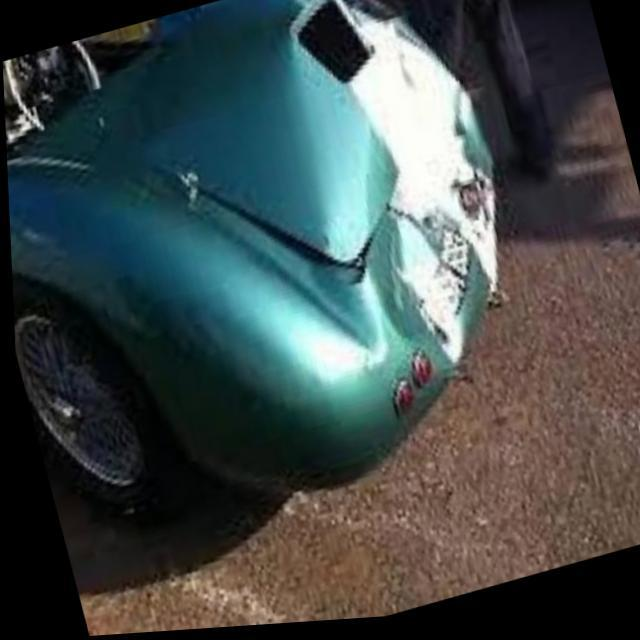dent: (248, 15, 503, 384)
